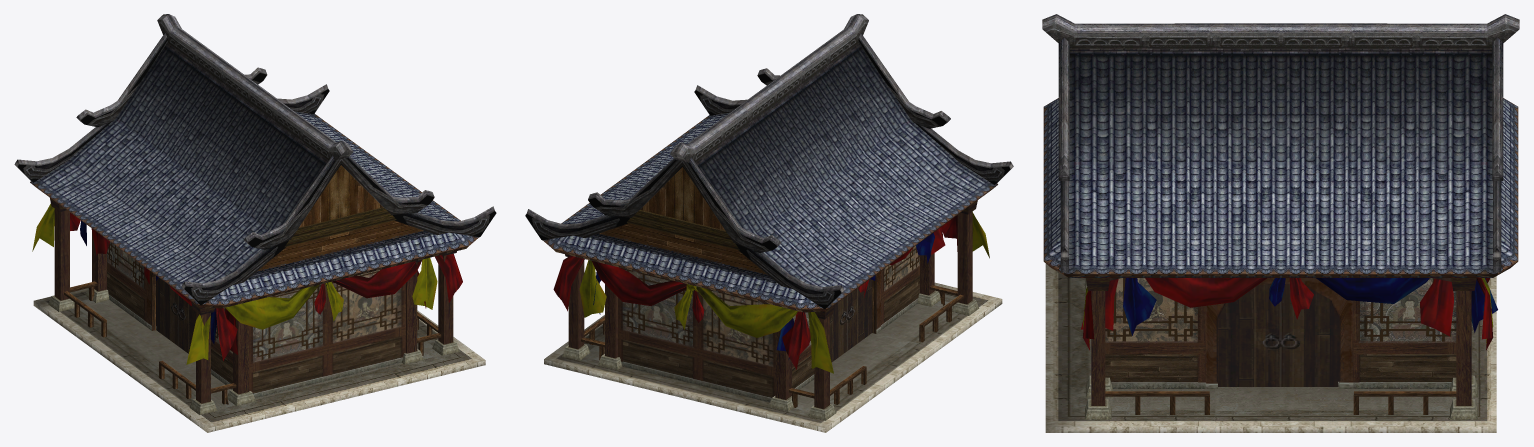
File: b1-032-shamanhouse.fbx
3 renders of one model, left to right at view 1: azimuth 30°, elevation 25°; view 2: azimuth 150°, elevation 25°; view 3: azimuth 270°, elevation 25°, orthographic. The views are drawn at different scales.
Visible parts, largest first — view 1: b1-032-shamanhouse-1, b1-032-shamanhouse-2; view 2: b1-032-shamanhouse-1, b1-032-shamanhouse-2; view 3: b1-032-shamanhouse-1, b1-032-shamanhouse-2.
Part boxes in pixels (bbox=[...]): b1-032-shamanhouse-1: bbox=[14, 14, 496, 308]; b1-032-shamanhouse-2: bbox=[32, 198, 485, 432]; b1-032-shamanhouse-1: bbox=[525, 14, 1013, 312]; b1-032-shamanhouse-2: bbox=[544, 200, 1002, 432]; b1-032-shamanhouse-1: bbox=[1042, 14, 1519, 277]; b1-032-shamanhouse-2: bbox=[1045, 263, 1497, 432].
Bounding box in the file's own units: 9.89 × 7.73 × 10.11.
